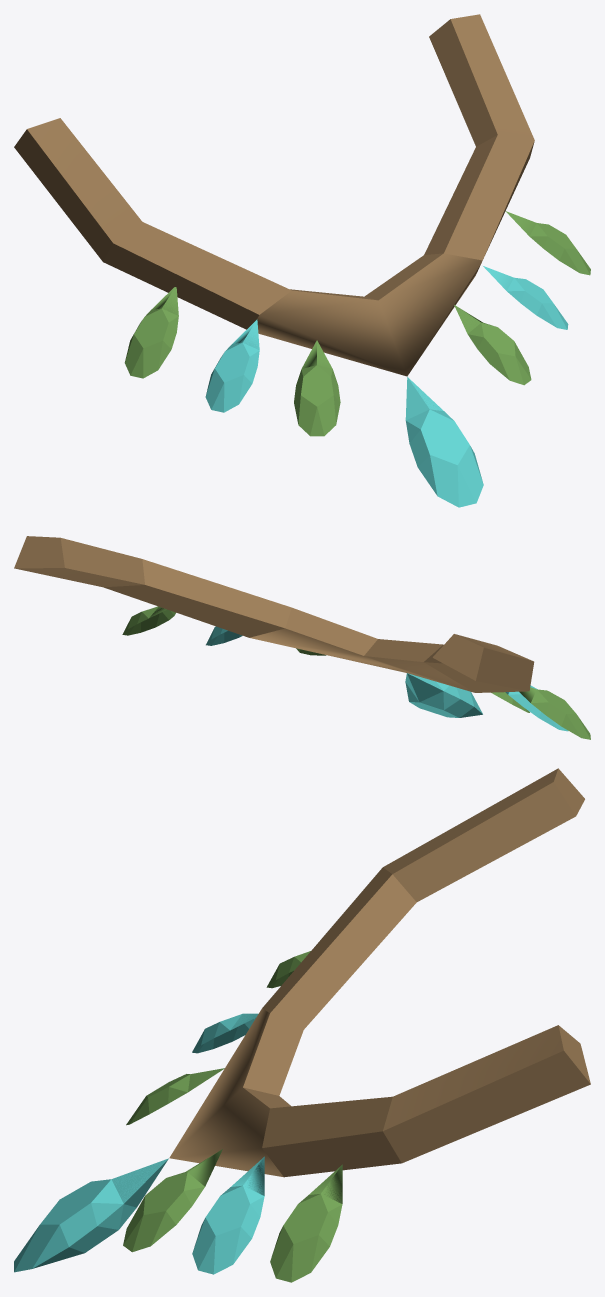
The model's file is Prop.Necklace_06.fbx.
The picture shows the model from 3 angles, top to bottom: view 1: azimuth 30°, elevation 25°; view 2: azimuth 150°, elevation 25°; view 3: azimuth 270°, elevation 25°; orthographic projection. The views are drawn at different scales.
Parts seen in each view (by area): view 1: Prop_Necklace_06; view 2: Prop_Necklace_06; view 3: Prop_Necklace_06.
Part boxes in pixels (x1=…): Prop_Necklace_06: x1=14, y1=14, x2=590, y2=507; Prop_Necklace_06: x1=14, y1=536, x2=590, y2=739; Prop_Necklace_06: x1=14, y1=768, x2=590, y2=1282.
Bounding box in the file's own units: 17.26 × 10.11 × 14.53.
